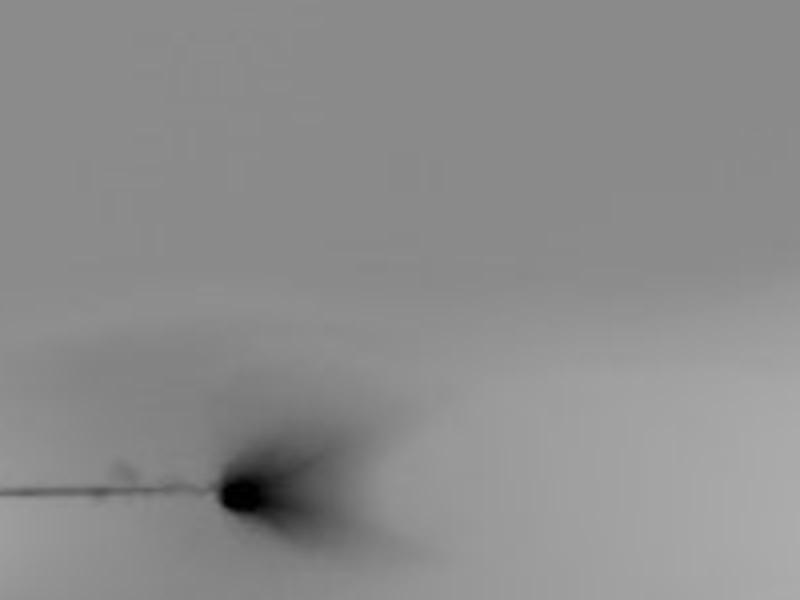defect: (217, 470, 278, 515)
